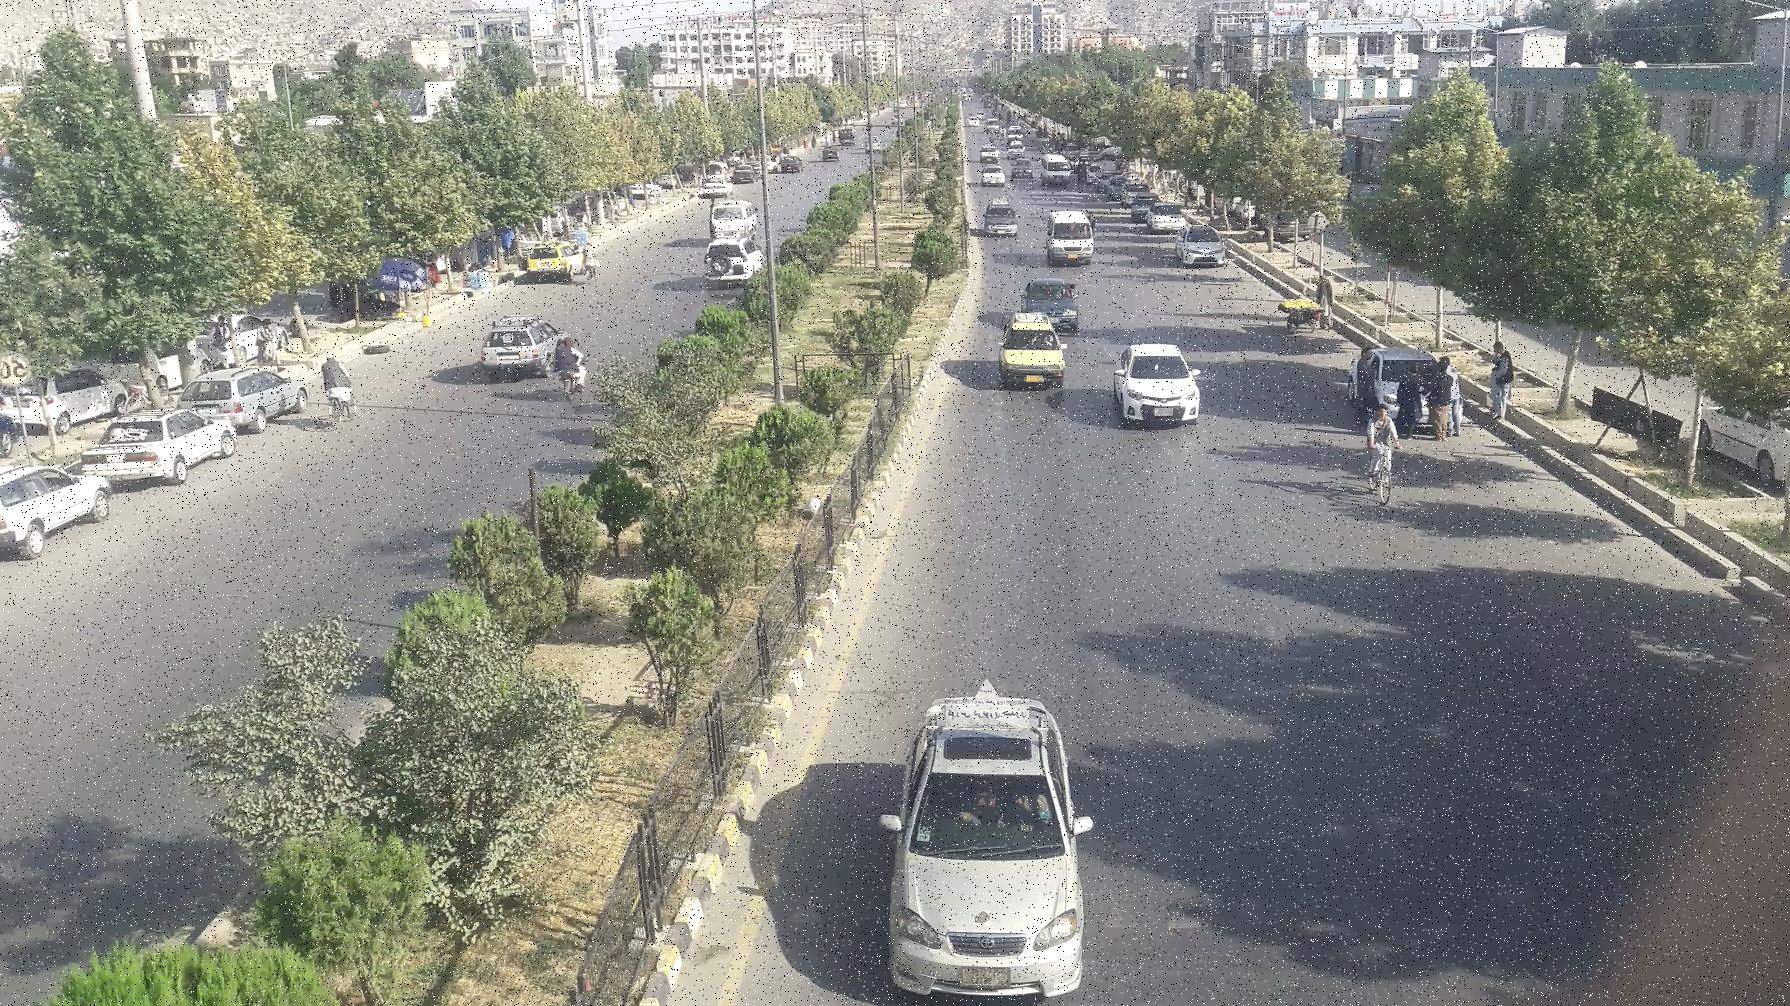bike: (556, 338, 591, 395)
bus: (1047, 209, 1097, 266), (709, 202, 759, 236)
car: (879, 699, 1089, 1006), (71, 410, 235, 493), (0, 467, 109, 567), (170, 373, 310, 437), (0, 369, 116, 439), (1106, 344, 1199, 432), (478, 317, 563, 371), (993, 325, 1063, 387), (704, 237, 762, 288), (1023, 277, 1078, 323), (1175, 229, 1229, 263), (530, 245, 582, 278), (984, 202, 1017, 237), (1147, 208, 1190, 232)
